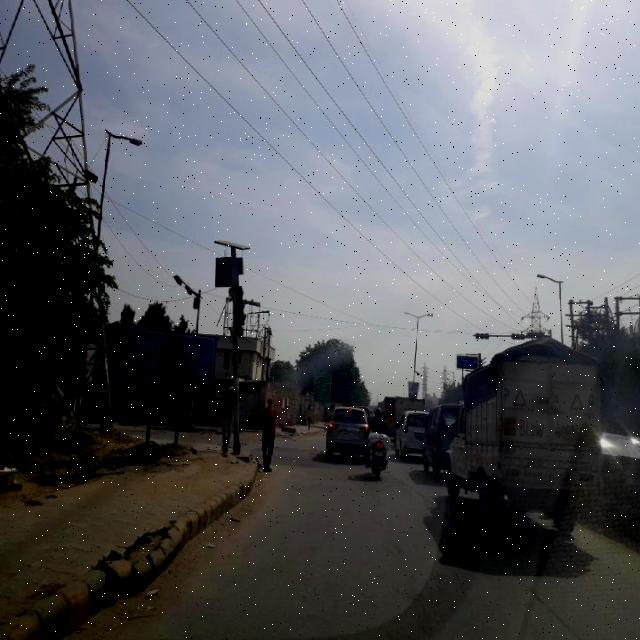D01: (503, 560, 581, 636)
